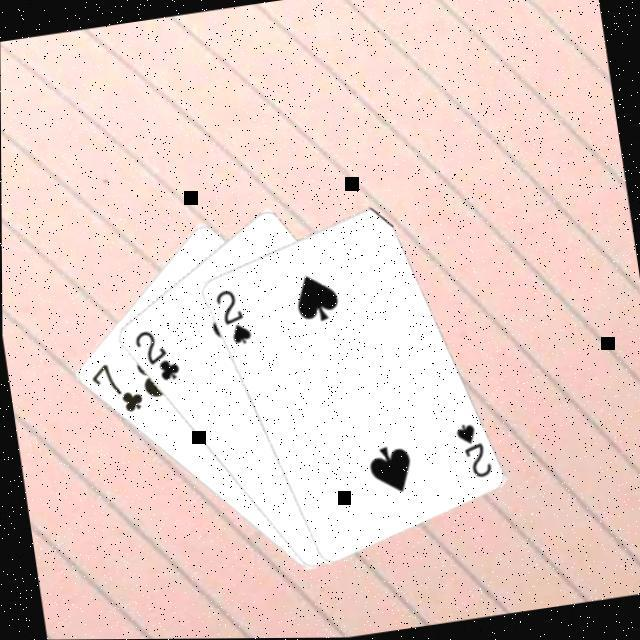2C: (130, 322, 184, 388)
2S: (212, 283, 256, 349), (451, 417, 495, 483)
7C: (86, 355, 148, 420)
